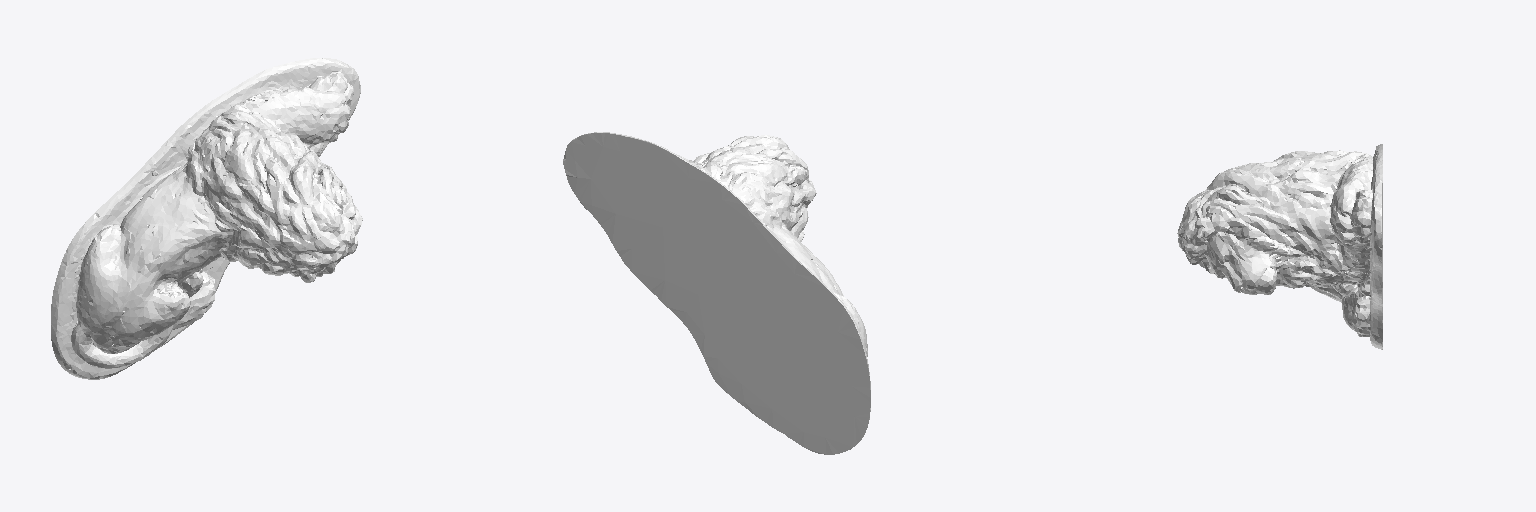
Rendered from Lion_Statue_16k.obj.
3 views of the same model, side by side, from view 1: azimuth 30°, elevation 25°; view 2: azimuth 150°, elevation 25°; view 3: azimuth 270°, elevation 25° (orthographic).
Visible parts, largest first — view 1: default; view 2: default; view 3: default.
Part boxes in pixels (left/top/right/bottom): default: left=51, top=58, right=362, bottom=379; default: left=563, top=132, right=870, bottom=454; default: left=1177, top=144, right=1382, bottom=349.
Bounding box in the file's own units: 31.12 × 26.12 × 17.97.